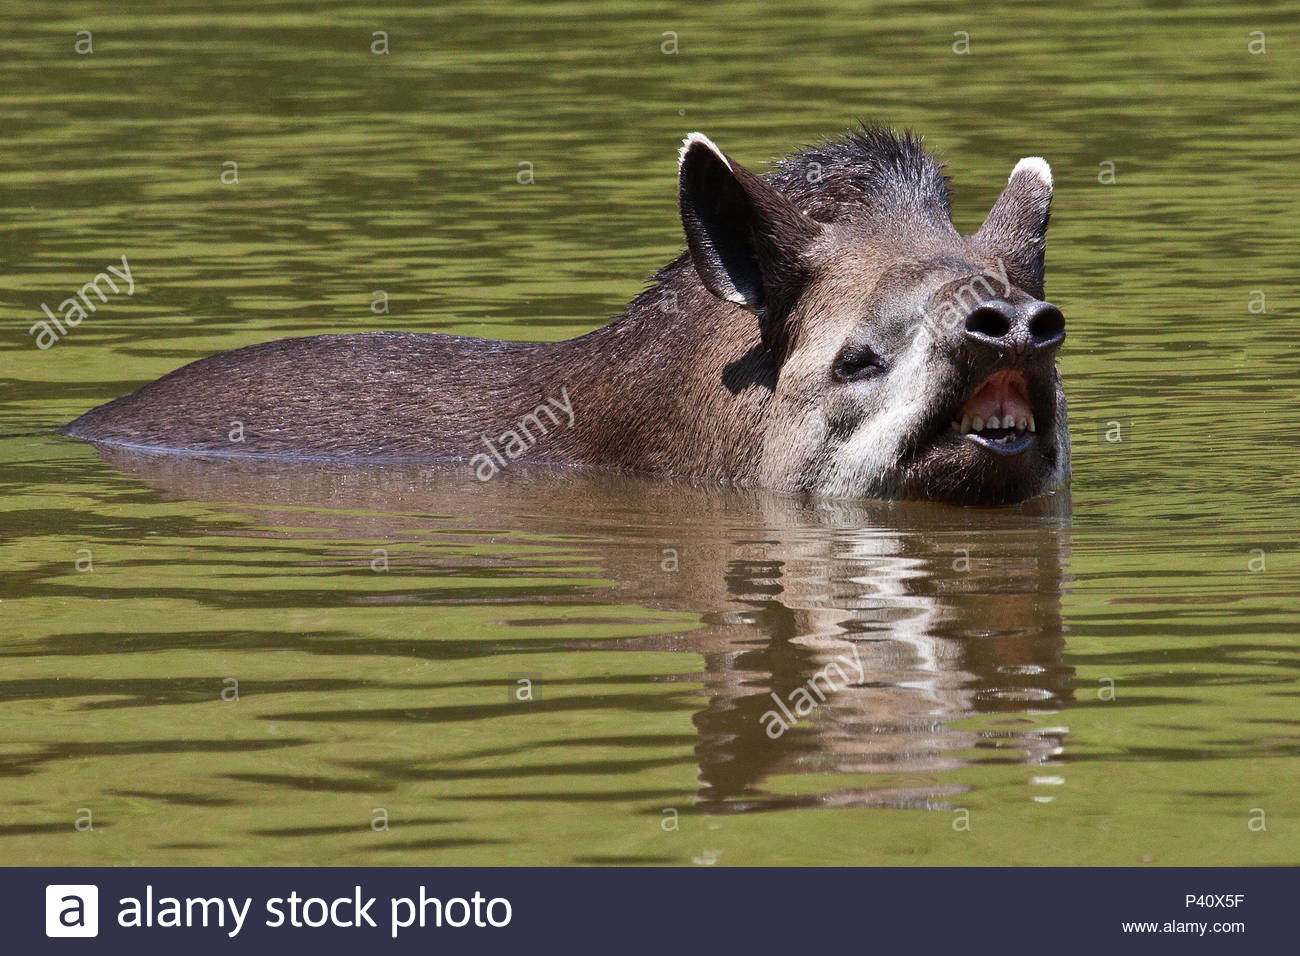Anta: (51, 104, 1125, 581)
